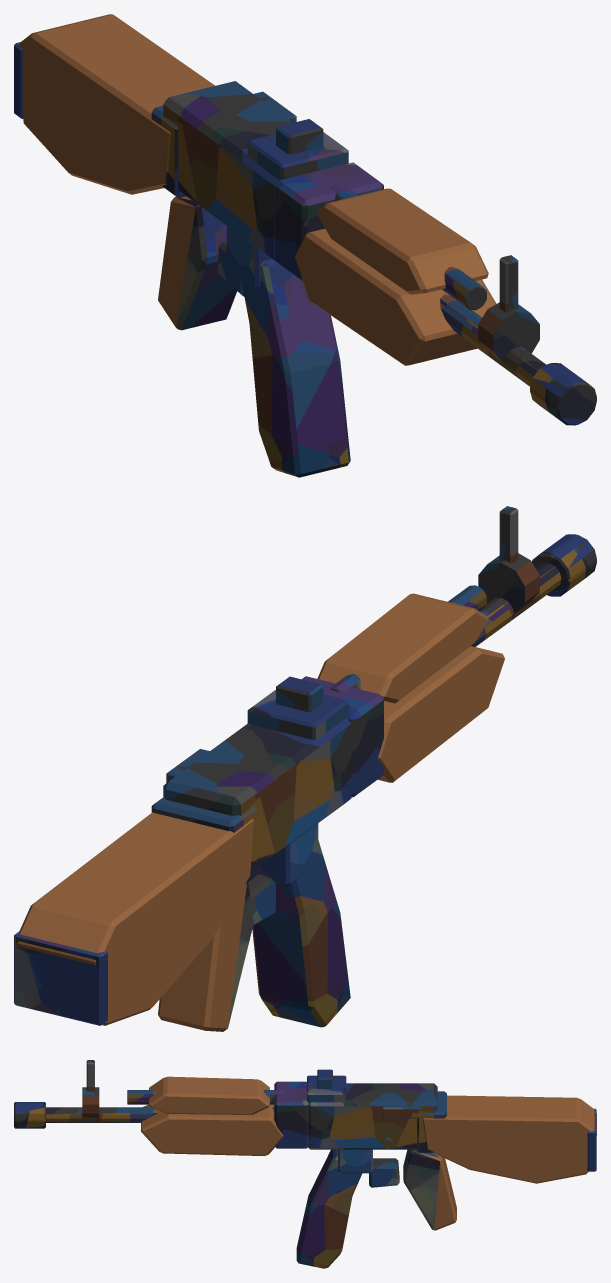
File: AK47_HardenedSteel.glb
3 views of the same model, one above another, from view 1: azimuth 30°, elevation 25°; view 2: azimuth 150°, elevation 25°; view 3: azimuth 270°, elevation 25° (orthographic). The views are drawn at different scales.
Visible parts, largest first — view 1: FTF_Weapon_AK47_Black_Mesh; view 2: FTF_Weapon_AK47_Black_Mesh; view 3: FTF_Weapon_AK47_Black_Mesh.
Boxes of the visible parts, x1,y1,x2,y2 form: FTF_Weapon_AK47_Black_Mesh: (14, 14, 596, 477); FTF_Weapon_AK47_Black_Mesh: (14, 506, 596, 1031); FTF_Weapon_AK47_Black_Mesh: (14, 1060, 596, 1268).
Bounding box in the file's own units: 0.198 × 0.7282 × 1.92.
Materials: 2 (1 with a texture image).
